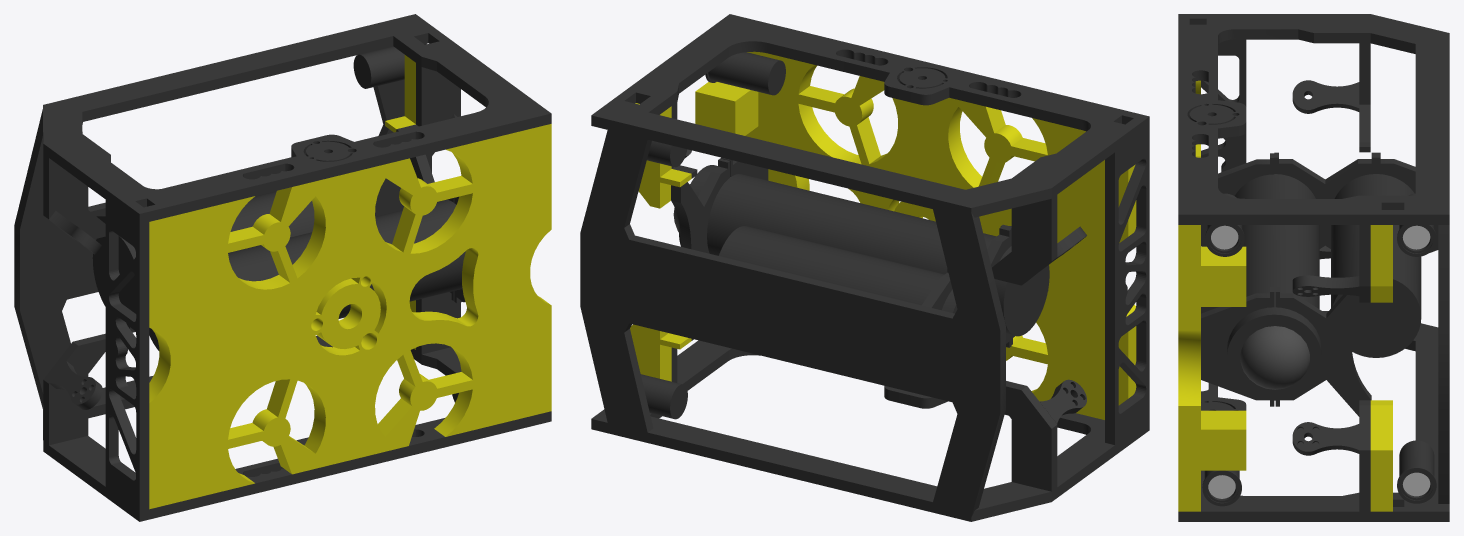
The model's file is vehicle.dae.
3 renders of one model, left to right at view 1: azimuth 30°, elevation 25°; view 2: azimuth 150°, elevation 25°; view 3: azimuth 270°, elevation 25°, orthographic. The views are drawn at different scales.
Visible parts, largest first — view 1: FLOTADOR, lateral, INFERIOR, TAPA_TRASERA, lateral2, CILINDRO, SOPORTE_TRASERO.1, SOPORTE_DELANTERO (×2), CILINDRO.1, SOPORTE_TRASERO, Body007, pata (+2 smaller); view 2: INFERIOR, FLOTADOR, lateral, lateral2, CILINDRO, TAPA_TRASERA, CILINDRO.1, Body007 (×3), SOPORTE_TRASERO.1, SOPORTE_TRASERO, Cubo.1, INTERMEDIO_DELANTERO (+5 smaller); view 3: lateral, CILINDRO, lateral2, CILINDRO.1, FLOTADOR, INTERMEDIO_DELANTERO, Body007 (×4), Esfera, INFERIOR, BASE_CILINDRO, Cubo, SOPORTE_DELANTERO.1 (+12 smaller).
Part boxes in pixels (bbox=[...]): FLOTADOR: bbox=[149, 124, 551, 509]; lateral: bbox=[43, 14, 551, 224]; INFERIOR: bbox=[14, 18, 431, 408]; TAPA_TRASERA: bbox=[105, 200, 149, 511]; lateral2: bbox=[43, 335, 551, 521]; CILINDRO: bbox=[149, 199, 465, 350]; SOPORTE_TRASERO.1: bbox=[43, 333, 105, 445]; SOPORTE_DELANTERO (×2): bbox=[396, 63, 460, 354]; CILINDRO.1: bbox=[92, 191, 314, 313]; SOPORTE_TRASERO: bbox=[43, 154, 105, 242]; Body007: bbox=[353, 43, 427, 88]; pata: bbox=[49, 361, 102, 409]; INFERIOR: bbox=[580, 116, 1005, 521]; FLOTADOR: bbox=[745, 51, 1136, 419]; lateral: bbox=[591, 14, 1149, 218]; lateral2: bbox=[591, 340, 1149, 521]; CILINDRO: bbox=[678, 165, 1049, 336]; TAPA_TRASERA: bbox=[1105, 127, 1149, 444]; CILINDRO.1: bbox=[719, 226, 957, 313]; Body007 (×3): bbox=[640, 52, 785, 419]; SOPORTE_TRASERO.1: bbox=[1005, 381, 1057, 491]; SOPORTE_TRASERO: bbox=[991, 195, 1057, 285]; Cubo.1: bbox=[695, 82, 758, 135]; INTERMEDIO_DELANTERO: bbox=[671, 158, 729, 253]; lateral: bbox=[1178, 14, 1449, 224]; CILINDRO: bbox=[1227, 174, 1321, 400]; lateral2: bbox=[1178, 311, 1449, 521]; CILINDRO.1: bbox=[1331, 174, 1421, 357]; FLOTADOR: bbox=[1178, 80, 1200, 511]; INTERMEDIO_DELANTERO: bbox=[1275, 287, 1371, 416]; Body007 (×4): bbox=[1202, 193, 1436, 506]; Esfera: bbox=[1240, 326, 1309, 389]; INFERIOR: bbox=[1438, 36, 1449, 503]; BASE_CILINDRO: bbox=[1201, 287, 1274, 406]; Cubo: bbox=[1201, 410, 1246, 470]; SOPORTE_DELANTERO.1: bbox=[1370, 400, 1392, 511].
Size of the model in its own units: 432 by 300 by 240.
